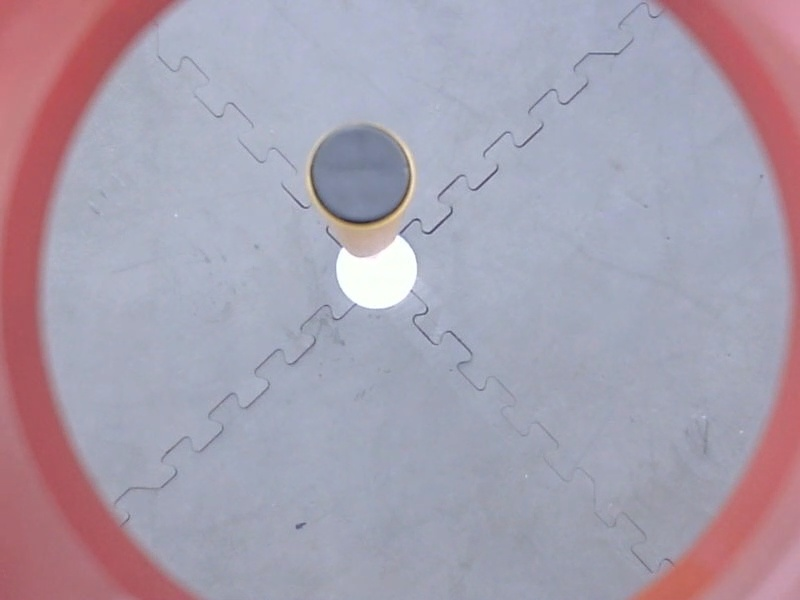tip: (301, 116, 421, 230)
